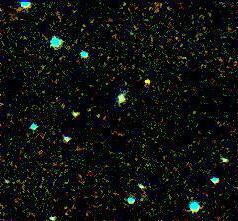star: (133, 66, 163, 96)
